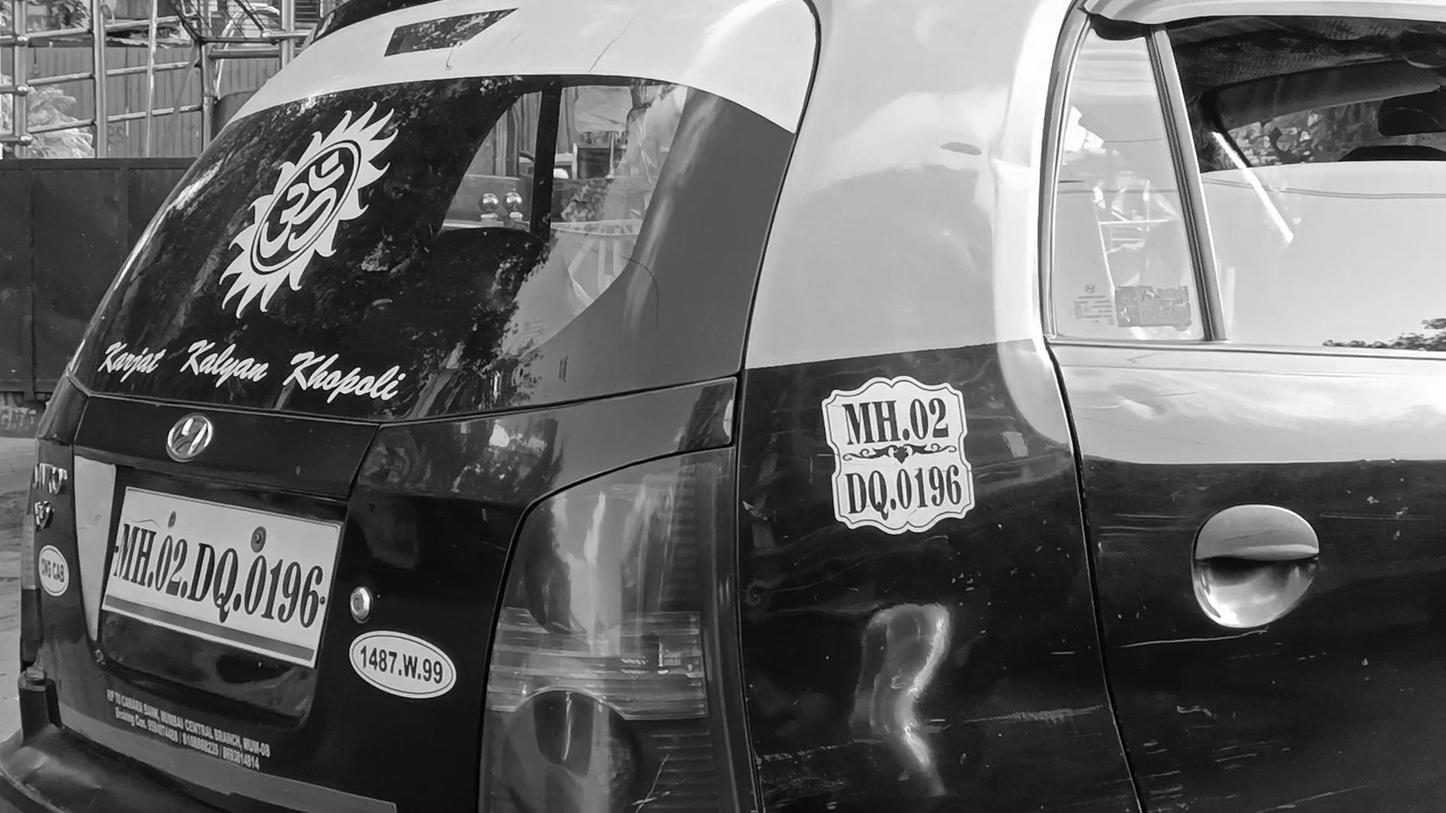number_plate: (107, 479, 336, 669)
